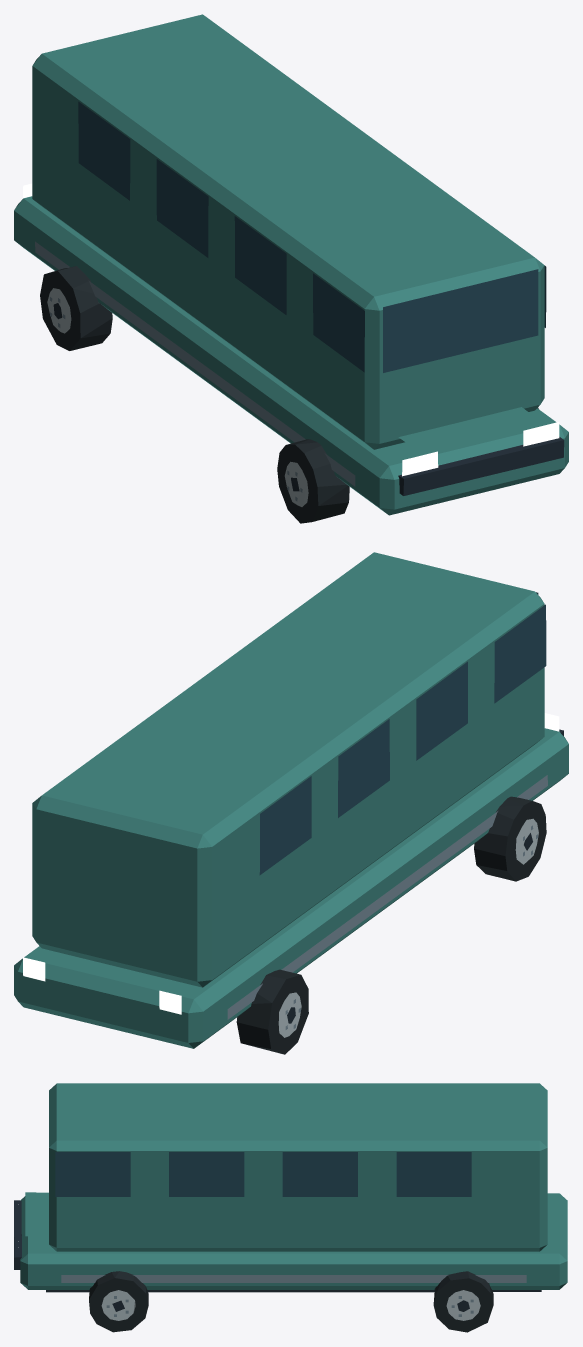
File: road-minibus.lod2.glb
3 renders of one model, top to bottom at view 1: azimuth 30°, elevation 25°; view 2: azimuth 150°, elevation 25°; view 3: azimuth 270°, elevation 25°, orthographic. The views are drawn at different scales.
Parts seen in each view (by area): view 1: road-minibus__body, road-minibus__wheel_steer_1_l, road-minibus__wheel_steer_0_l; view 2: road-minibus__body, road-minibus__wheel_steer_0_l, road-minibus__wheel_steer_1_l; view 3: road-minibus__body, road-minibus__wheel_steer_0_r, road-minibus__wheel_steer_1_r.
Boxes of the visible parts, x1,y1,x2,y2 form: road-minibus__body: [14, 14, 568, 515]; road-minibus__wheel_steer_1_l: [40, 266, 112, 350]; road-minibus__wheel_steer_0_l: [277, 439, 349, 523]; road-minibus__body: [14, 552, 568, 1048]; road-minibus__wheel_steer_0_l: [474, 796, 546, 881]; road-minibus__wheel_steer_1_l: [236, 969, 308, 1054]; road-minibus__body: [14, 1083, 568, 1292]; road-minibus__wheel_steer_0_r: [89, 1271, 148, 1332]; road-minibus__wheel_steer_1_r: [433, 1271, 493, 1332].
Size of the model in its own units: 2.24 by 2.25 by 6.29.
